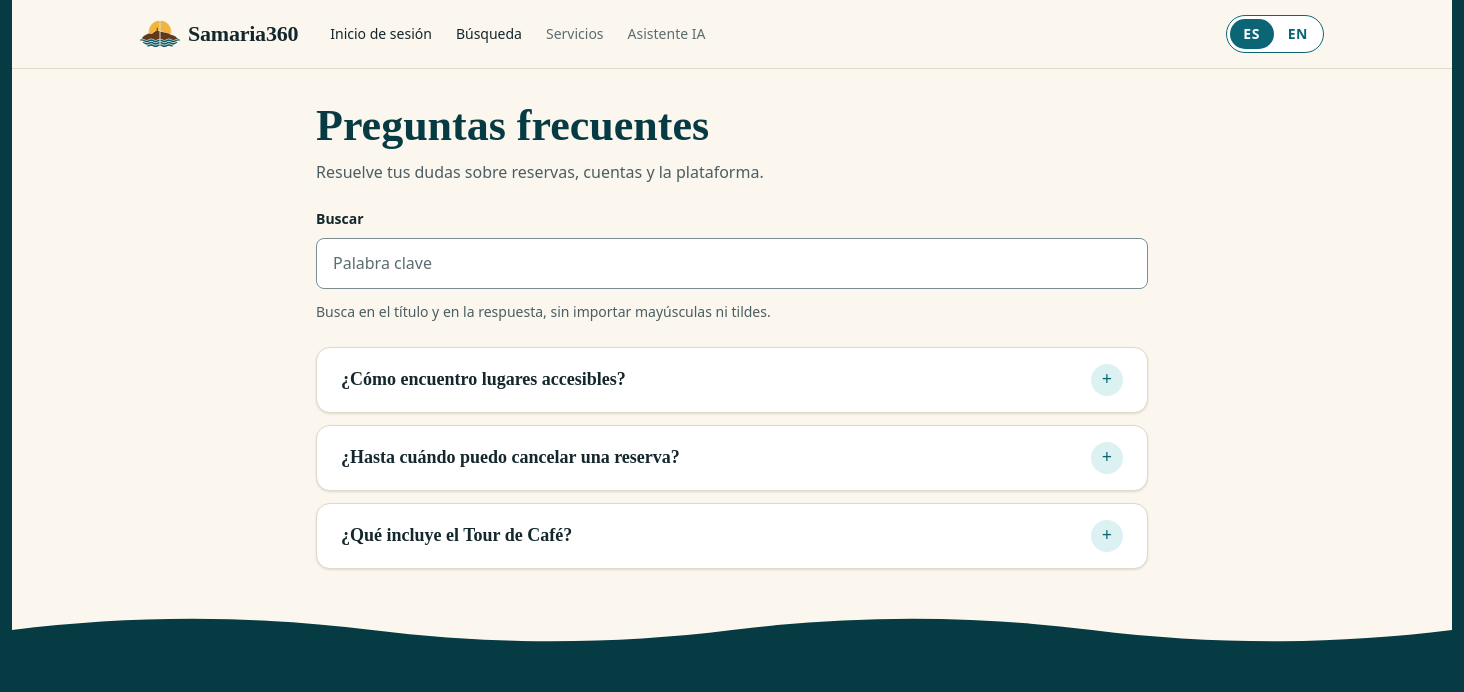
Test: WF-13, sección pública de preguntas frecuentes (RF26) › el acordeón abre y cierra cada pregunta; se pueden abrir varias
What coordinates should you click on to do the following:
click the button "¿Hasta cuándo puedo cancelar una reserva? +"
I would click on:
 (510, 457)
Its box is [317,426,1147,490].
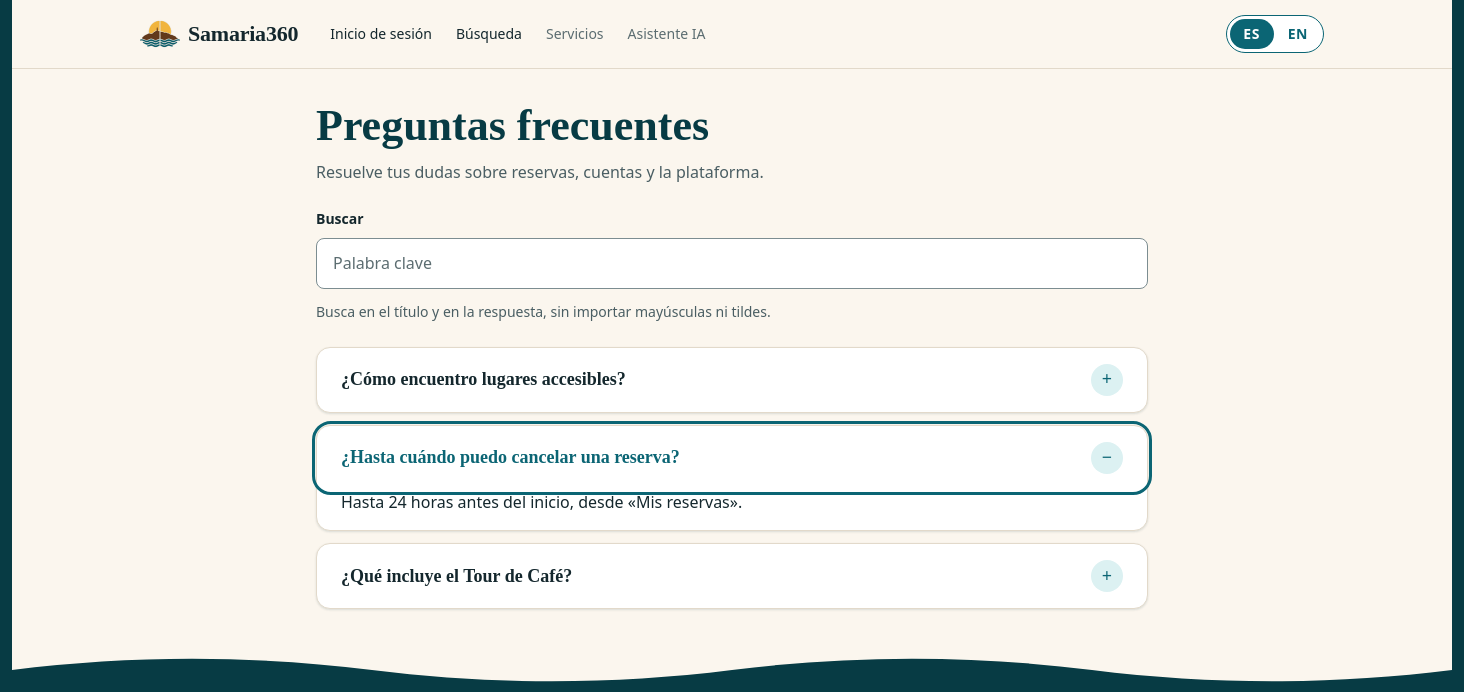
expect the button "¿Hasta cuándo puedo cancelar una reserva? −" is expanded: met, box [317,426,1147,490]
expect the text "Hasta 24 horas antes del inicio, desde «Mis reservas»." is shown: met, box [341,491,742,513]
What coordinates should you click on to do the following:
click the button "¿Qué incluye el Tour de Café? +"
I would click on:
 (457, 576)
Its box is [317,544,1147,608].
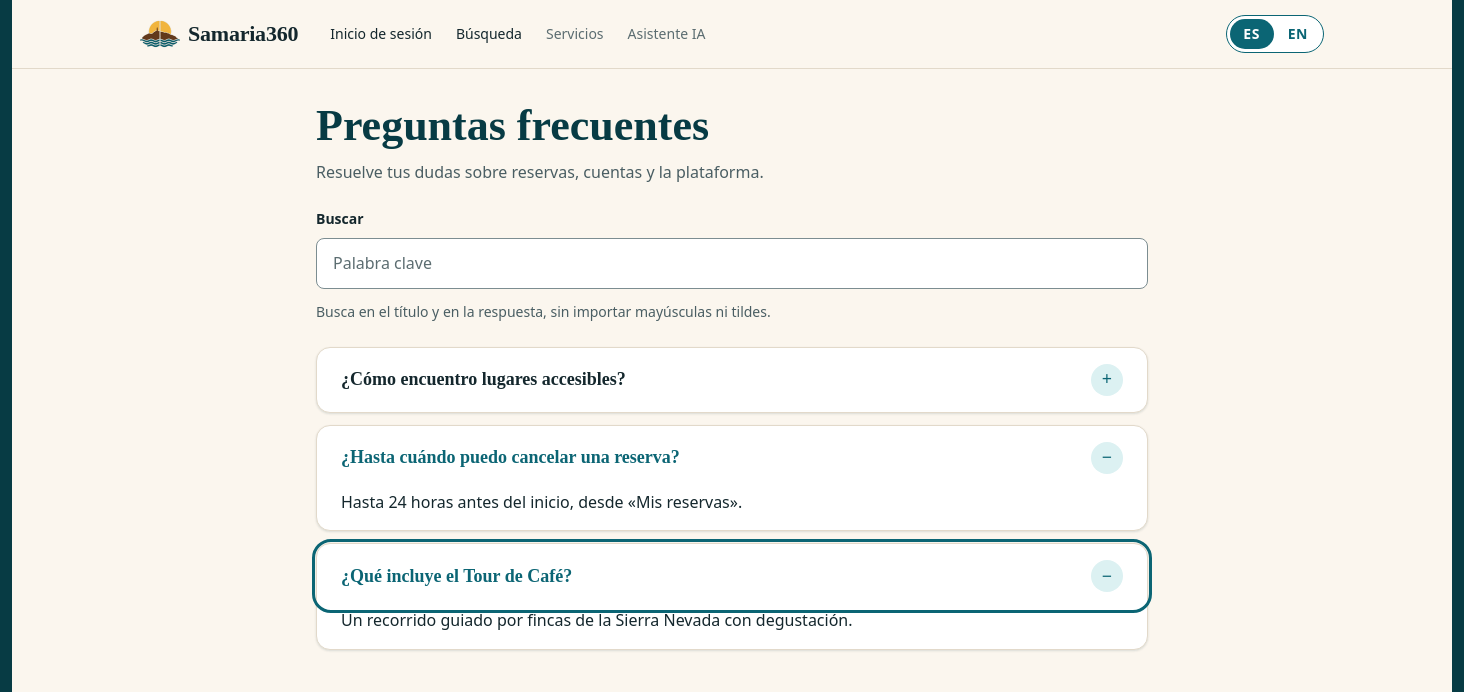
expect the text "Hasta 24 horas antes del inicio, desde «Mis reservas»." is shown: met, box [341,491,742,513]
expect the text "Un recorrido guiado por fincas de la Sierra Nevada con degustación." is shown: met, box [341,609,852,631]
What coordinates should you click on to do the following:
click the button "¿Hasta cuándo puedo cancelar una reserva? −"
I would click on:
 (510, 457)
Its box is [317,426,1147,490].
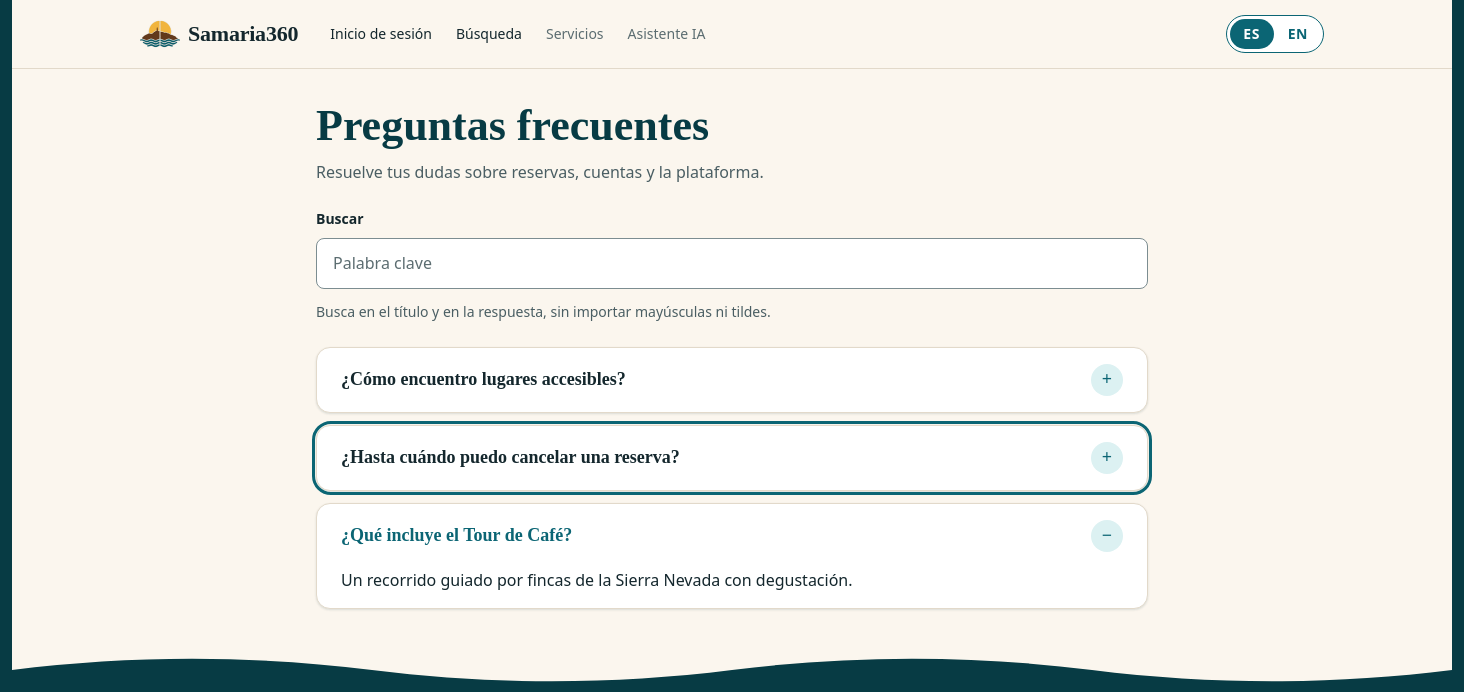
expect the button "¿Hasta cuándo puedo cancelar una reserva? +" is collapsed: met, box [317,426,1147,490]
expect the text "Hasta 24 horas antes del inicio, desde «Mis reservas»." is gone: met
